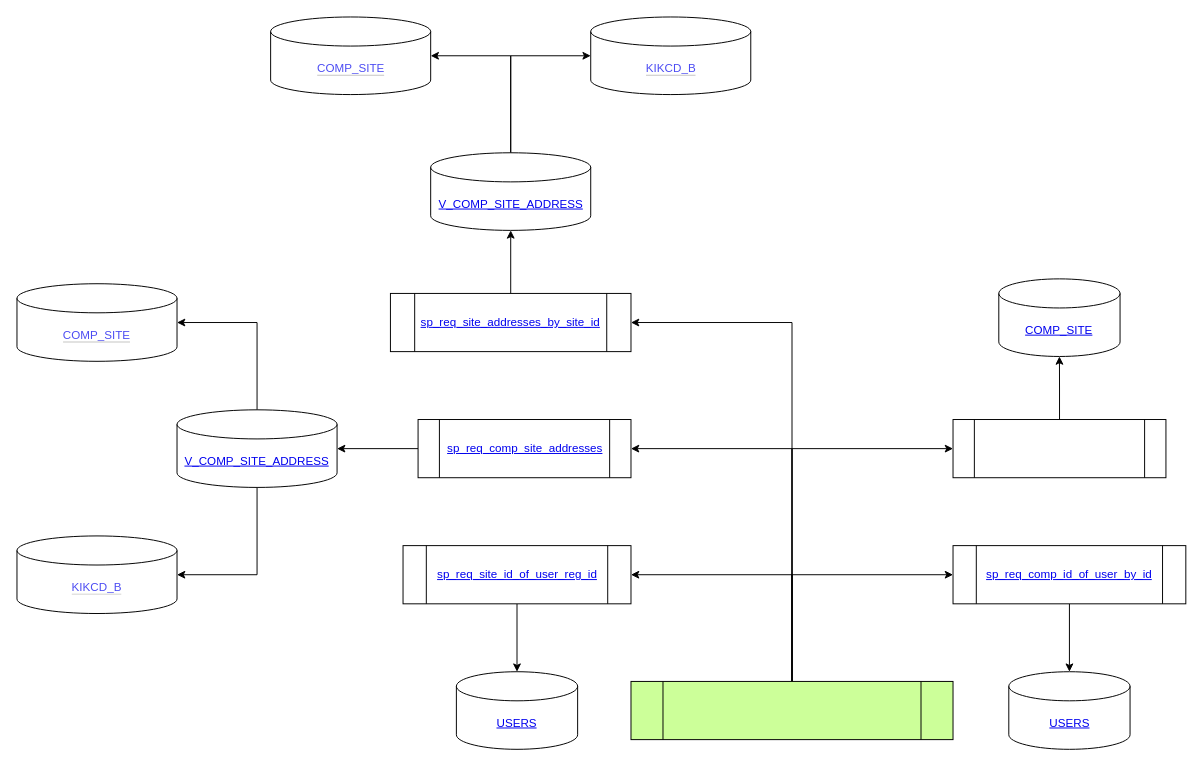
Image size: 1203x766. Some labels were removed from this diagram. The box of each missing label's shape, as (x1, y1, x2, y2) in pixels:
sp_req_available_site_addresses_by_user_id: (630, 680, 953, 740)
sp_req_is_site_head_office: (952, 419, 1166, 478)
